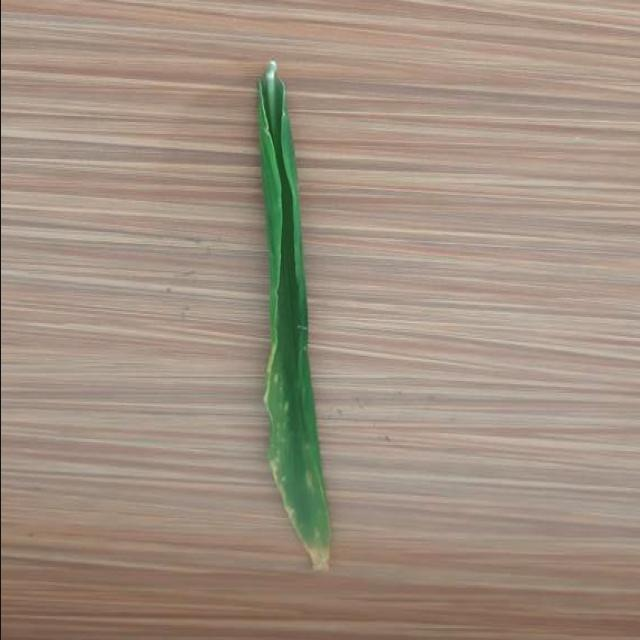leaf: (255, 59, 331, 571)
